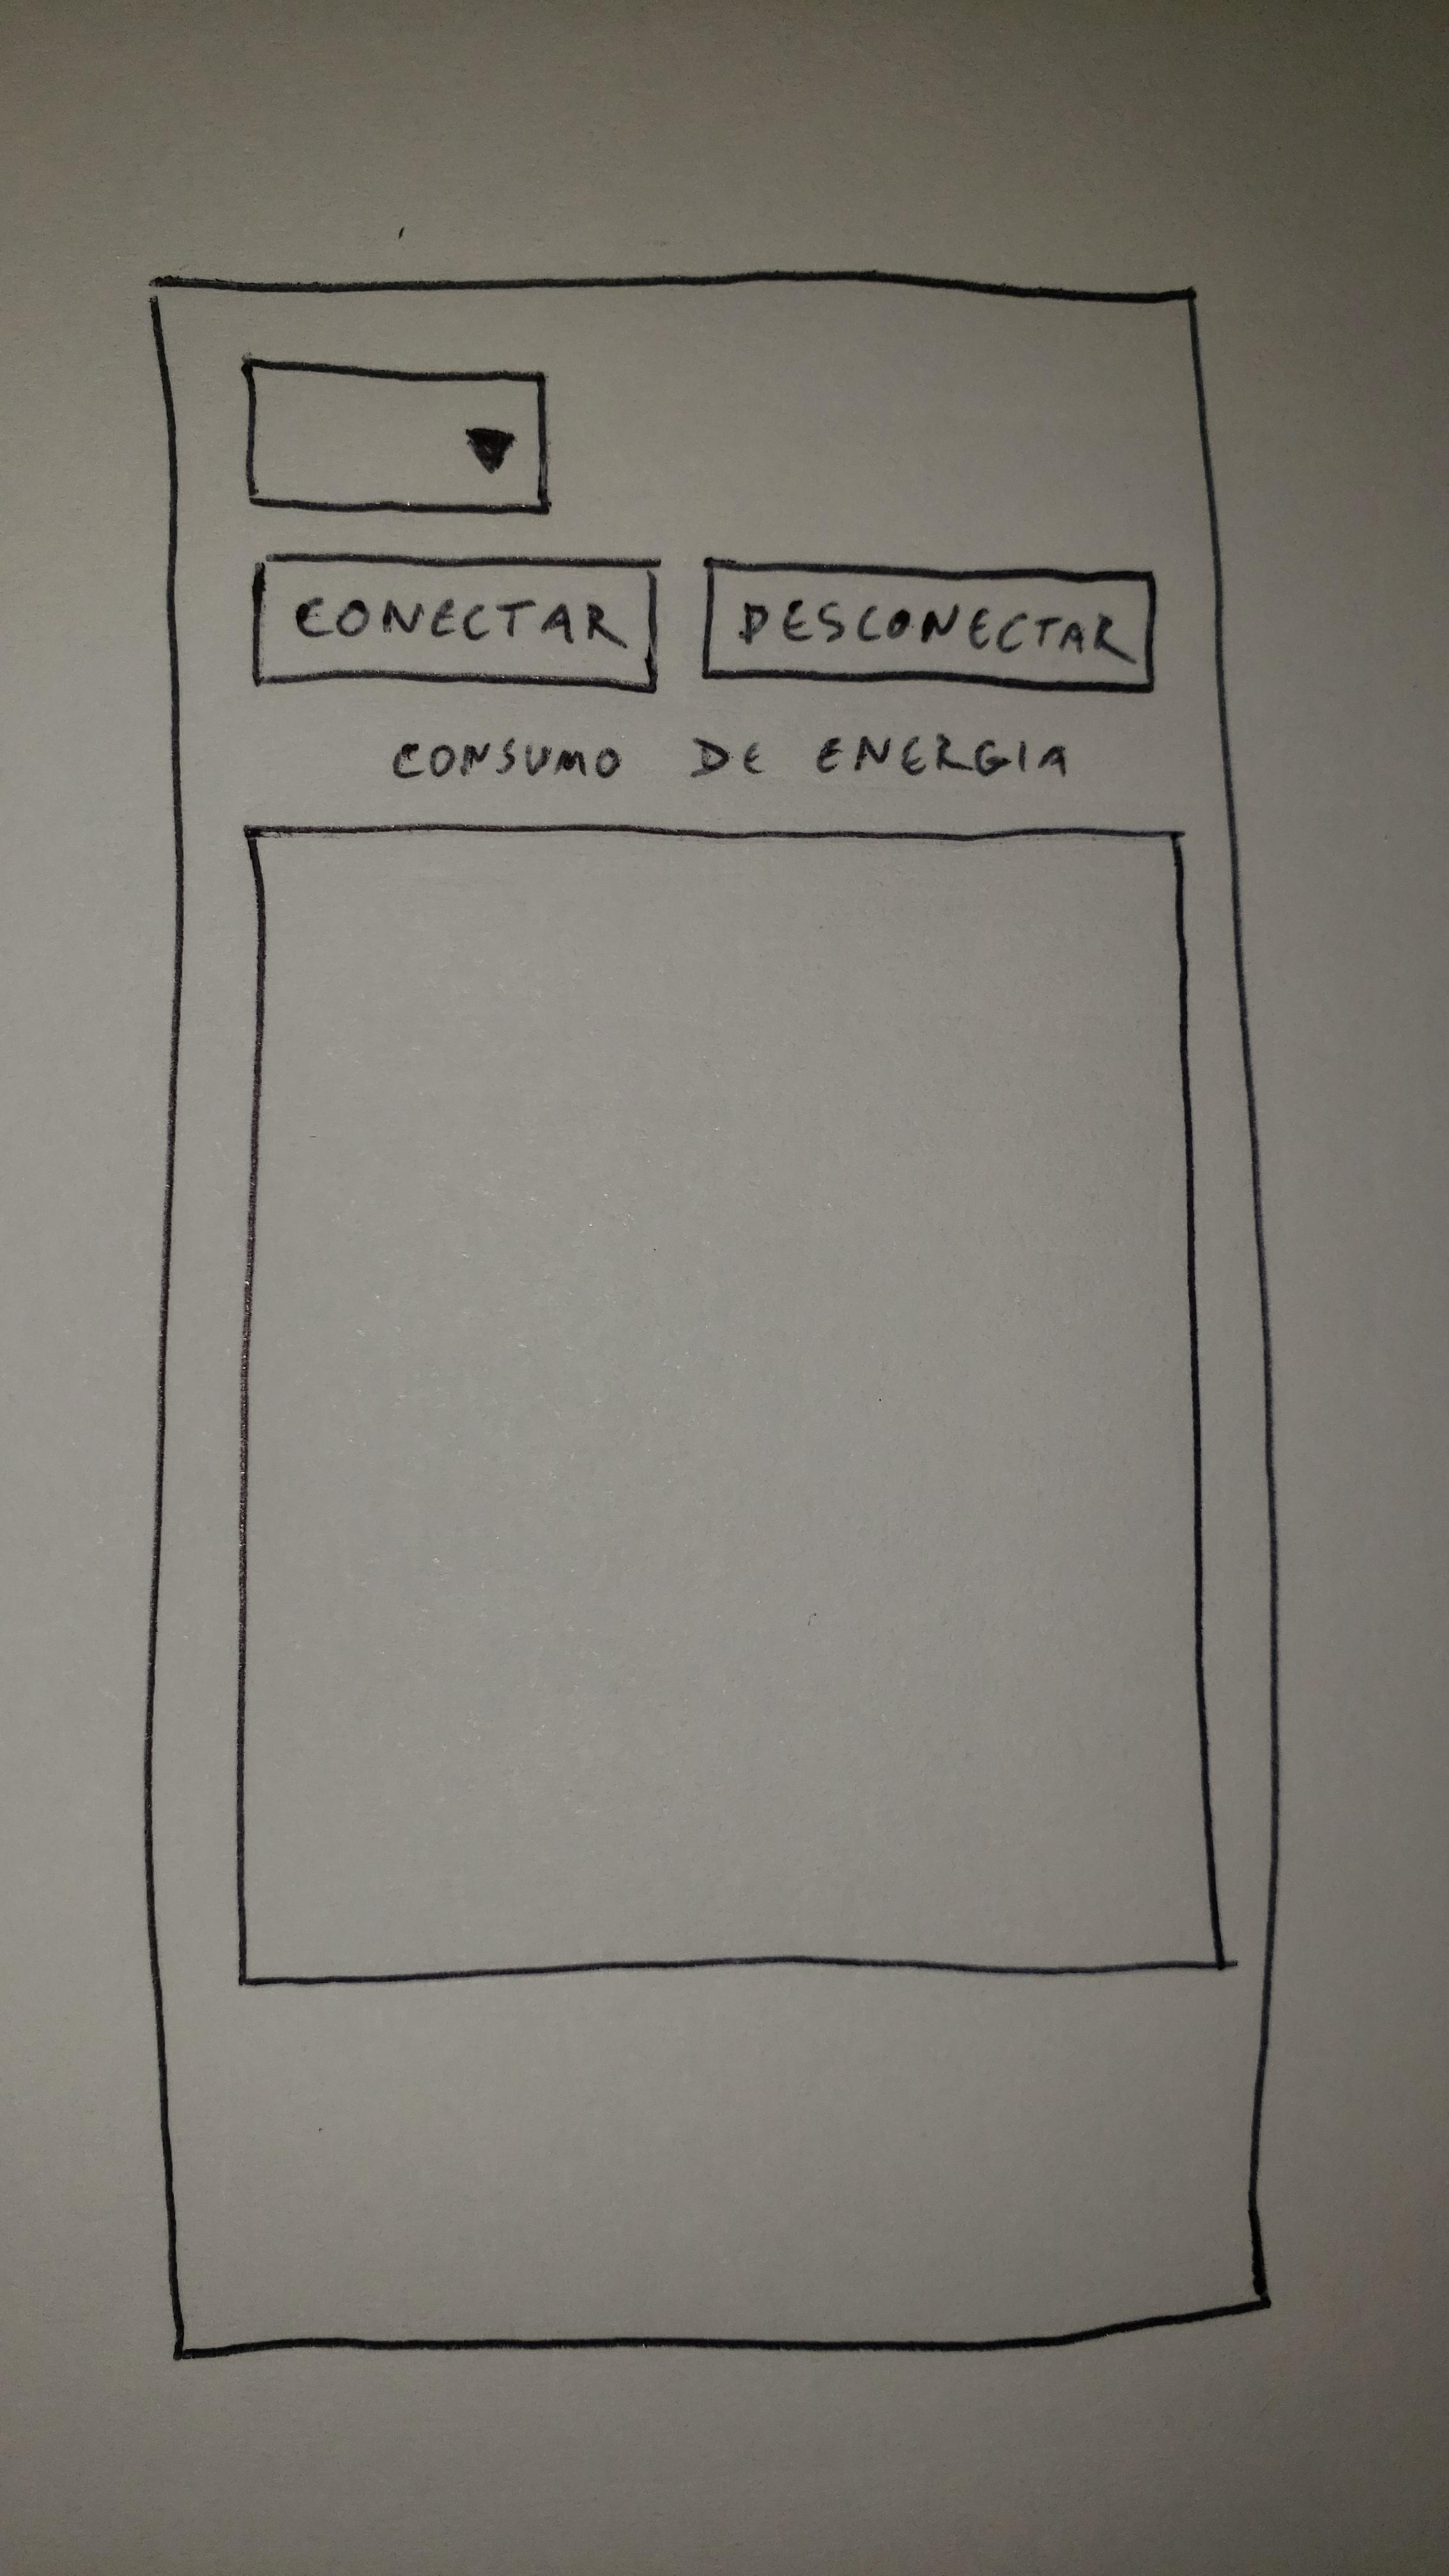Button: (702, 556, 1157, 692), (249, 552, 658, 690)
Label: (393, 727, 1070, 782)
ListPicker: (242, 356, 554, 513)
Screen: (145, 269, 1279, 2362)
TextBox: (232, 819, 1230, 1983)
